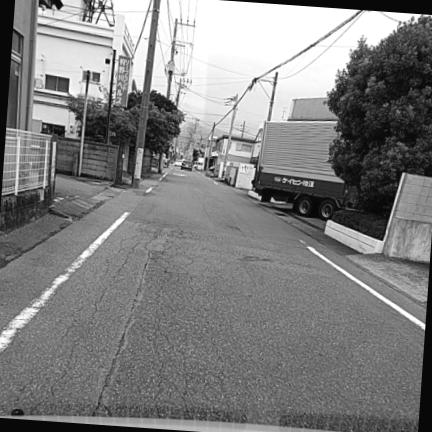Road: (0, 170, 425, 431)
